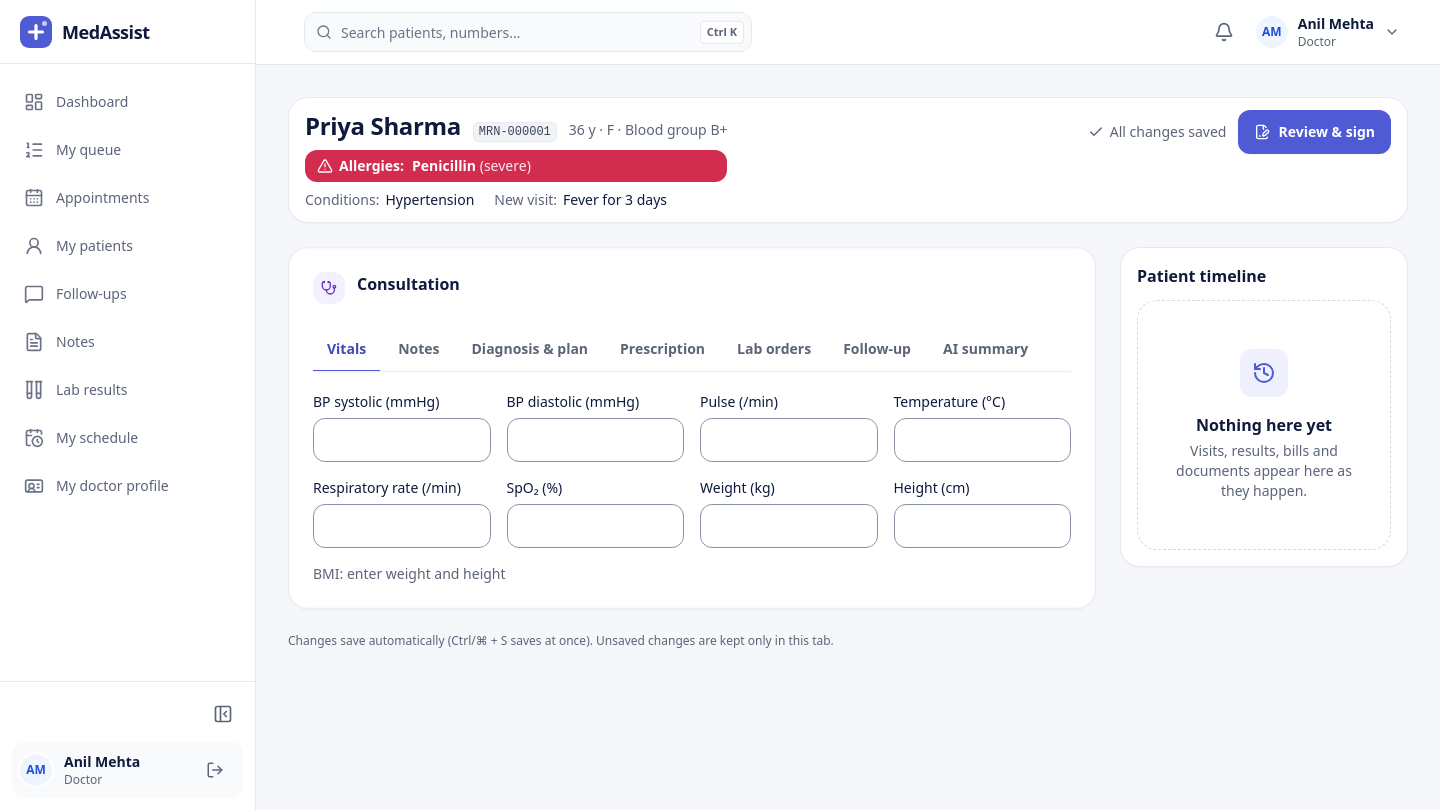
Test case: Generate › AI_DISABLED hides the tab
Click the tab "AI summary".
click(986, 350)  # box [929, 328, 1042, 372]
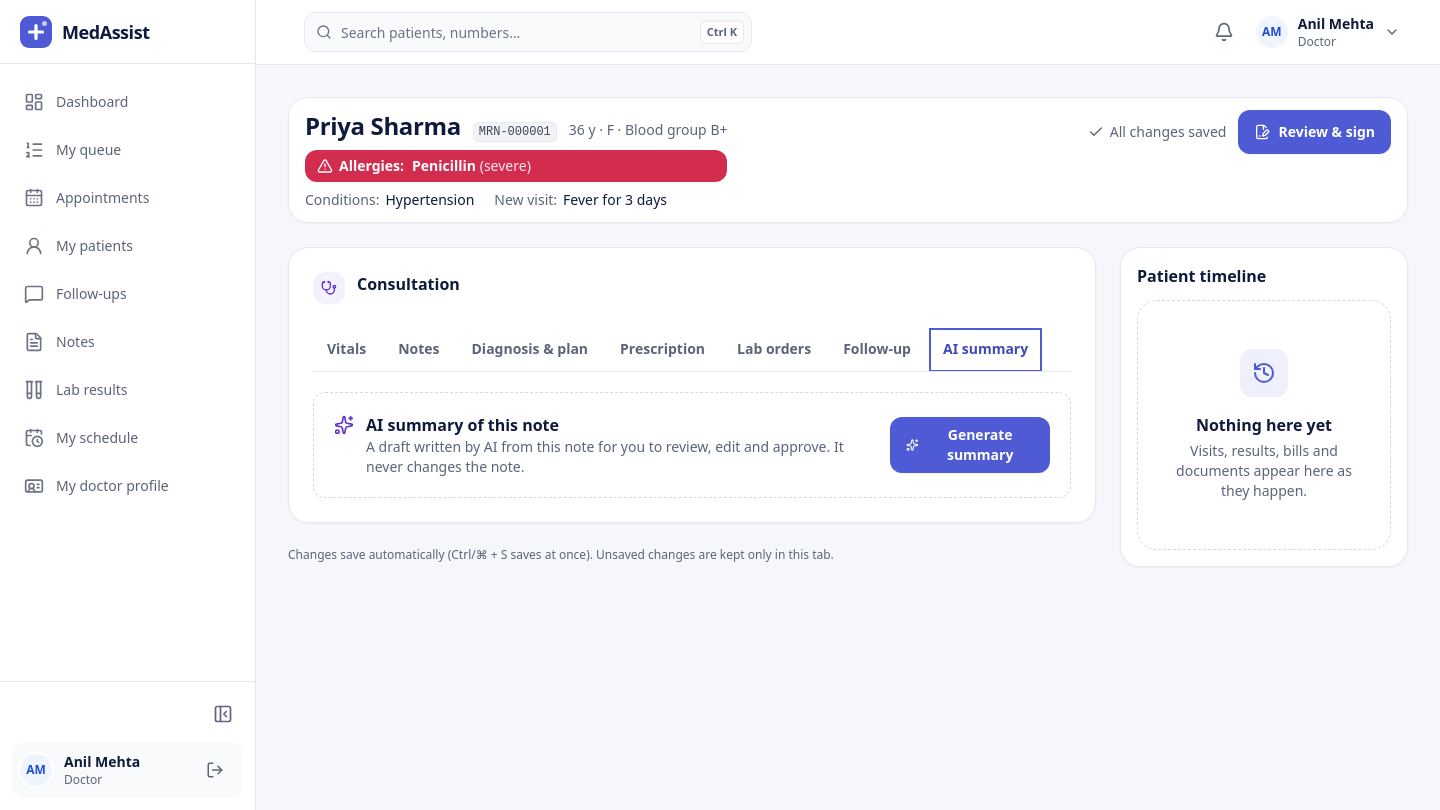
Click the button "Generate summary".
click(970, 445)  # box [890, 417, 1050, 473]
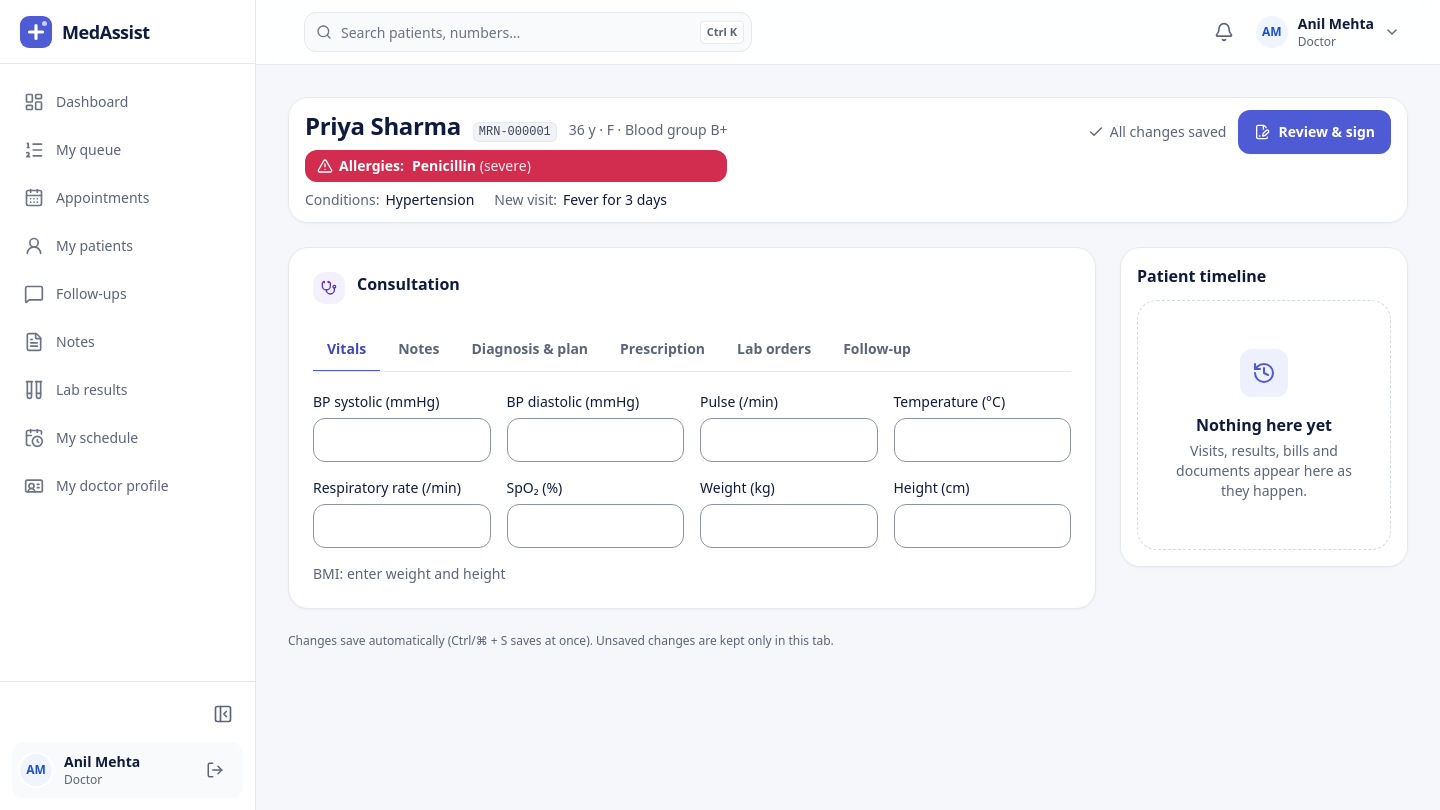
Now the tab "AI summary" is gone
